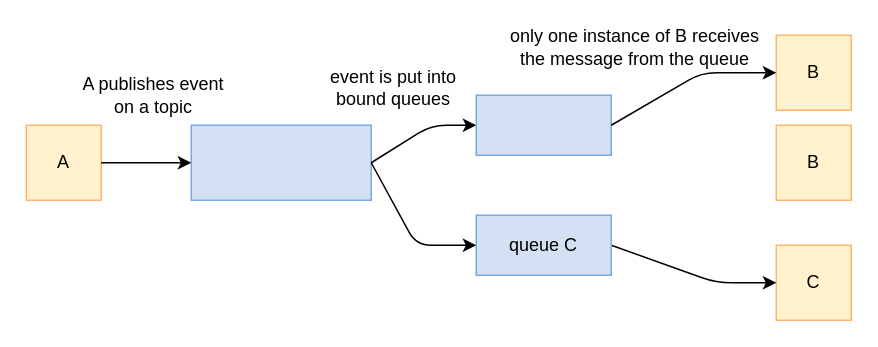
Image size: 878x347. Some labels were removed from this diagram. Each missing label, with the centre of its shape:
"queue B" belongs at (543,124).
"topic" belongs at (280,162).
